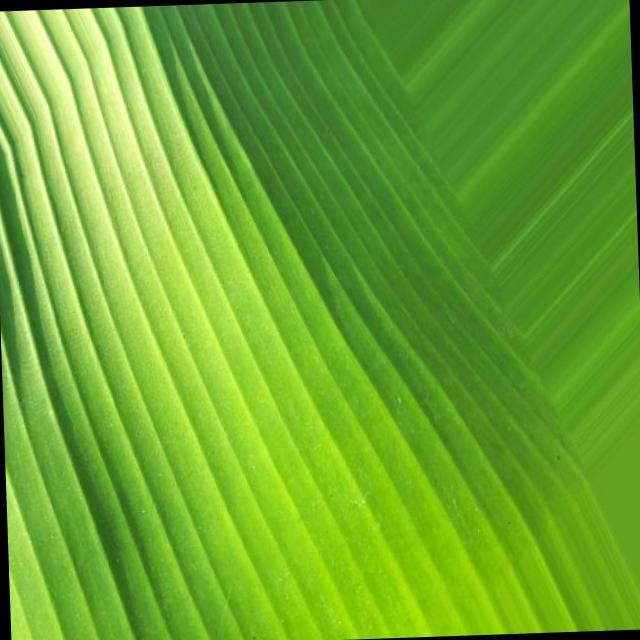Banana_Healthy: (98, 148, 476, 527)
